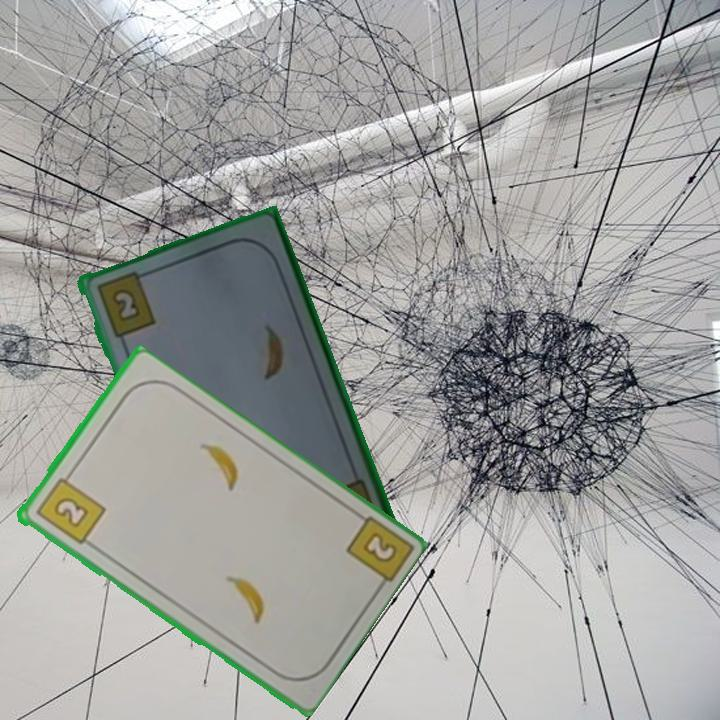2b: (31, 468, 108, 548), (92, 267, 158, 340), (358, 528, 400, 566)
